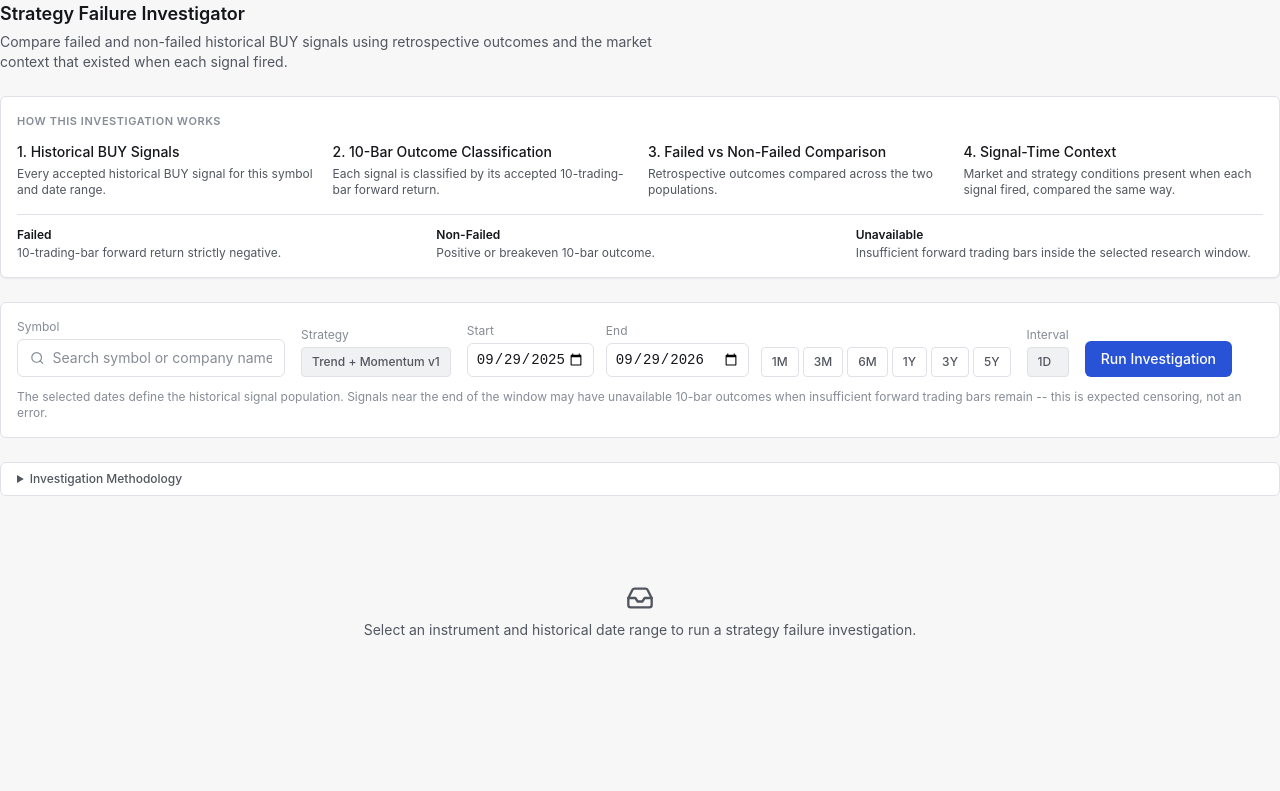
it: Failure Investigator population overview › renders exact backend population counts
Type "REL" into the dropdown at (162, 358), box [52, 348, 272, 368]
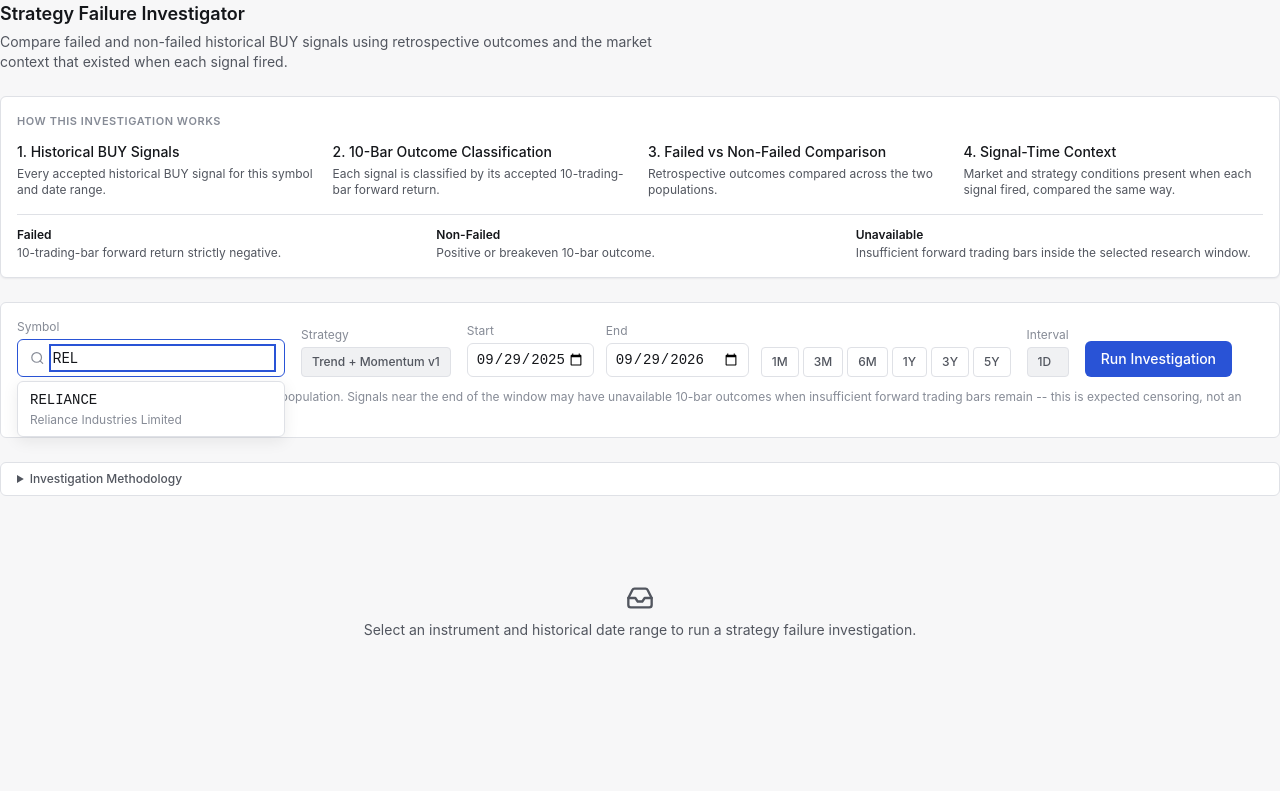
Click the text "RELIANCE" at (64, 400), box [30, 390, 97, 410]
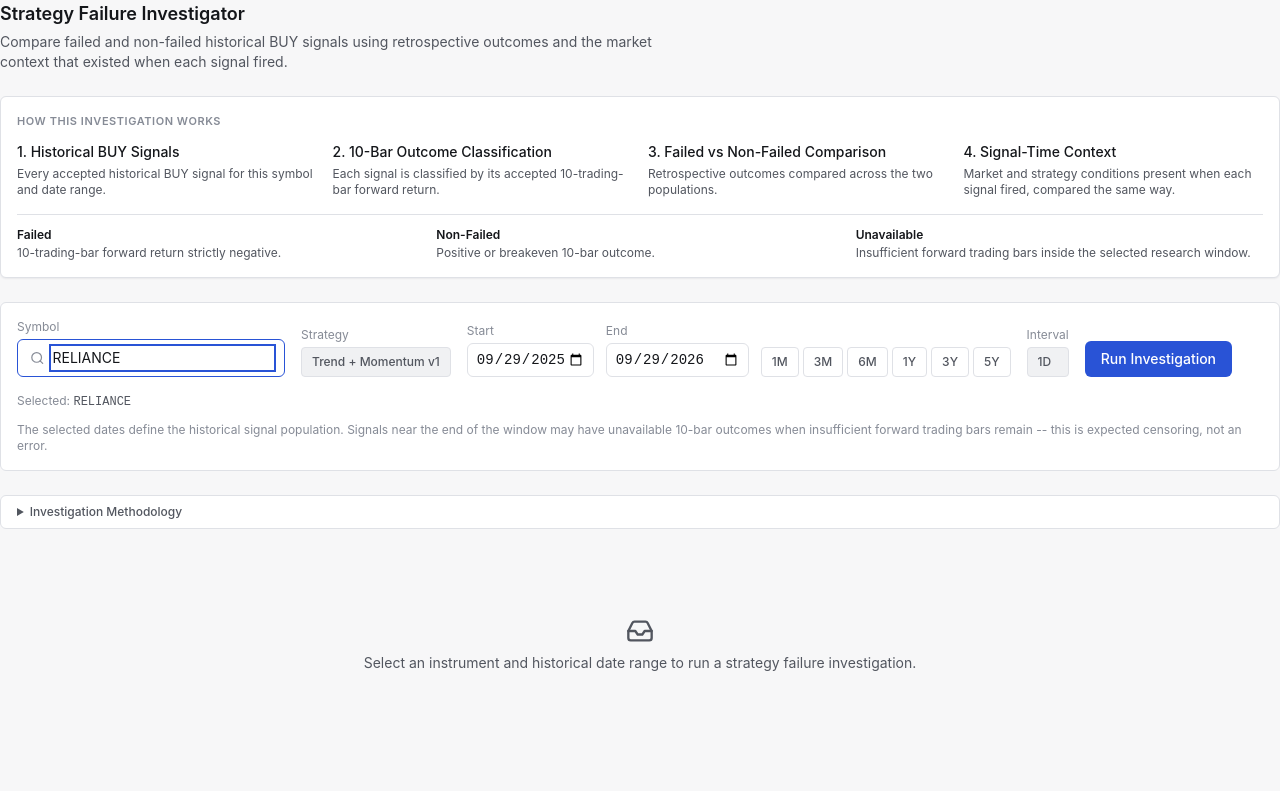
Click the button "Run Investigation" at (1158, 358), box [1085, 340, 1232, 376]
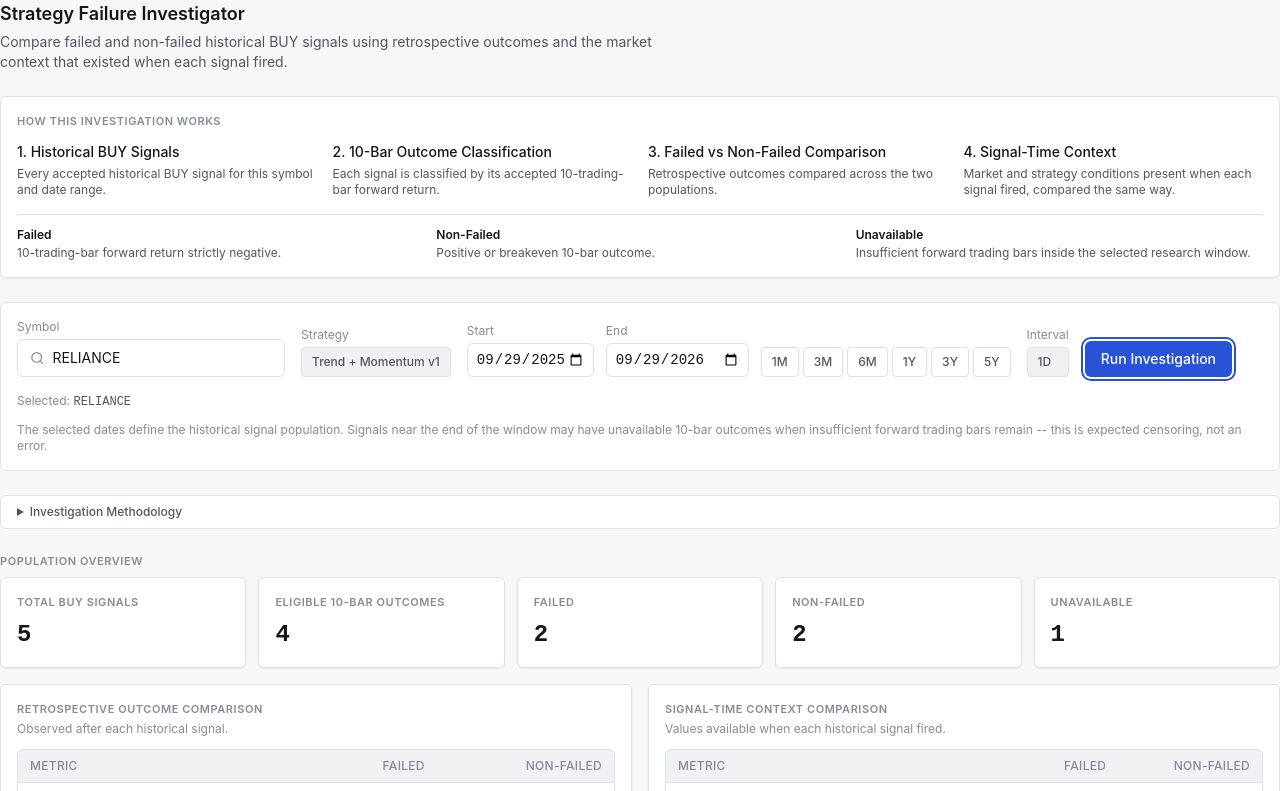
Check: the text "Failed" below "1. Historical BUY Signals" is shown, box [17, 226, 52, 242]
Check: the text "Population Overview" is shown, box [0, 554, 143, 568]
